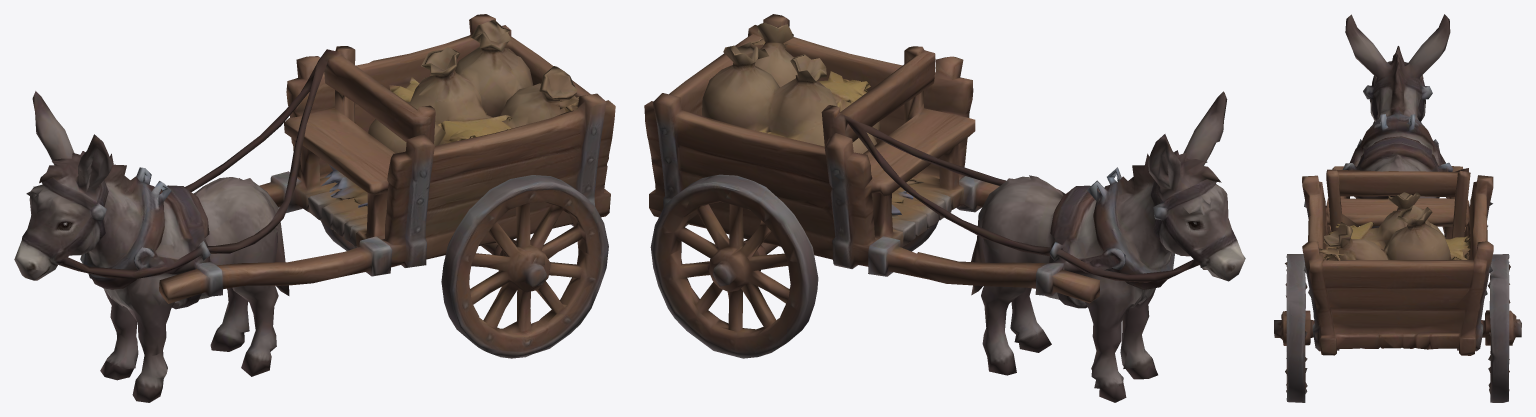
File: donkey_cart.glb
3 renders of one model, left to right at view 1: azimuth 30°, elevation 25°; view 2: azimuth 150°, elevation 25°; view 3: azimuth 270°, elevation 25°, orthographic. The views are drawn at different scales.
Parts seen in each view (by area): view 1: tripo_node_d71cbcbe-0c8a-4471-9dd4-57f02b139443; view 2: tripo_node_d71cbcbe-0c8a-4471-9dd4-57f02b139443; view 3: tripo_node_d71cbcbe-0c8a-4471-9dd4-57f02b139443.
Boxes of the visible parts, x1,y1,x2,y2 form: tripo_node_d71cbcbe-0c8a-4471-9dd4-57f02b139443: (14, 14, 615, 402); tripo_node_d71cbcbe-0c8a-4471-9dd4-57f02b139443: (644, 14, 1245, 402); tripo_node_d71cbcbe-0c8a-4471-9dd4-57f02b139443: (1274, 14, 1521, 402).
Size of the model in its own units: 1 by 0.5051 by 0.4939.
Materials: 1 (1 with a texture image).
